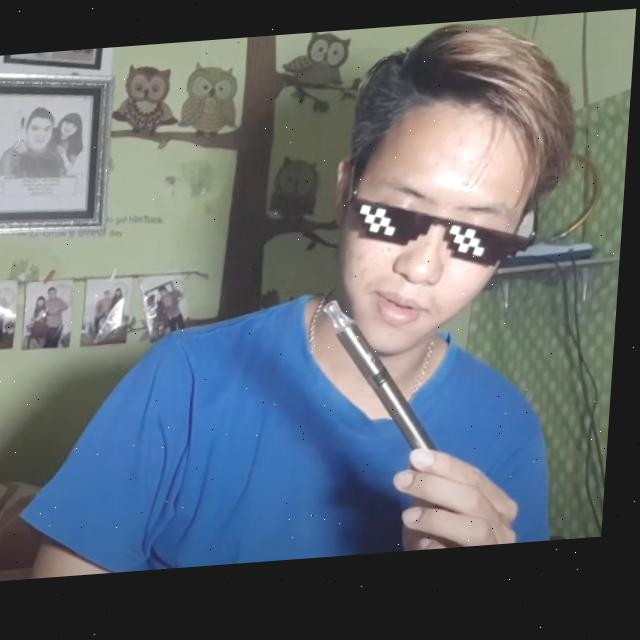vape: (320, 299, 453, 466)
